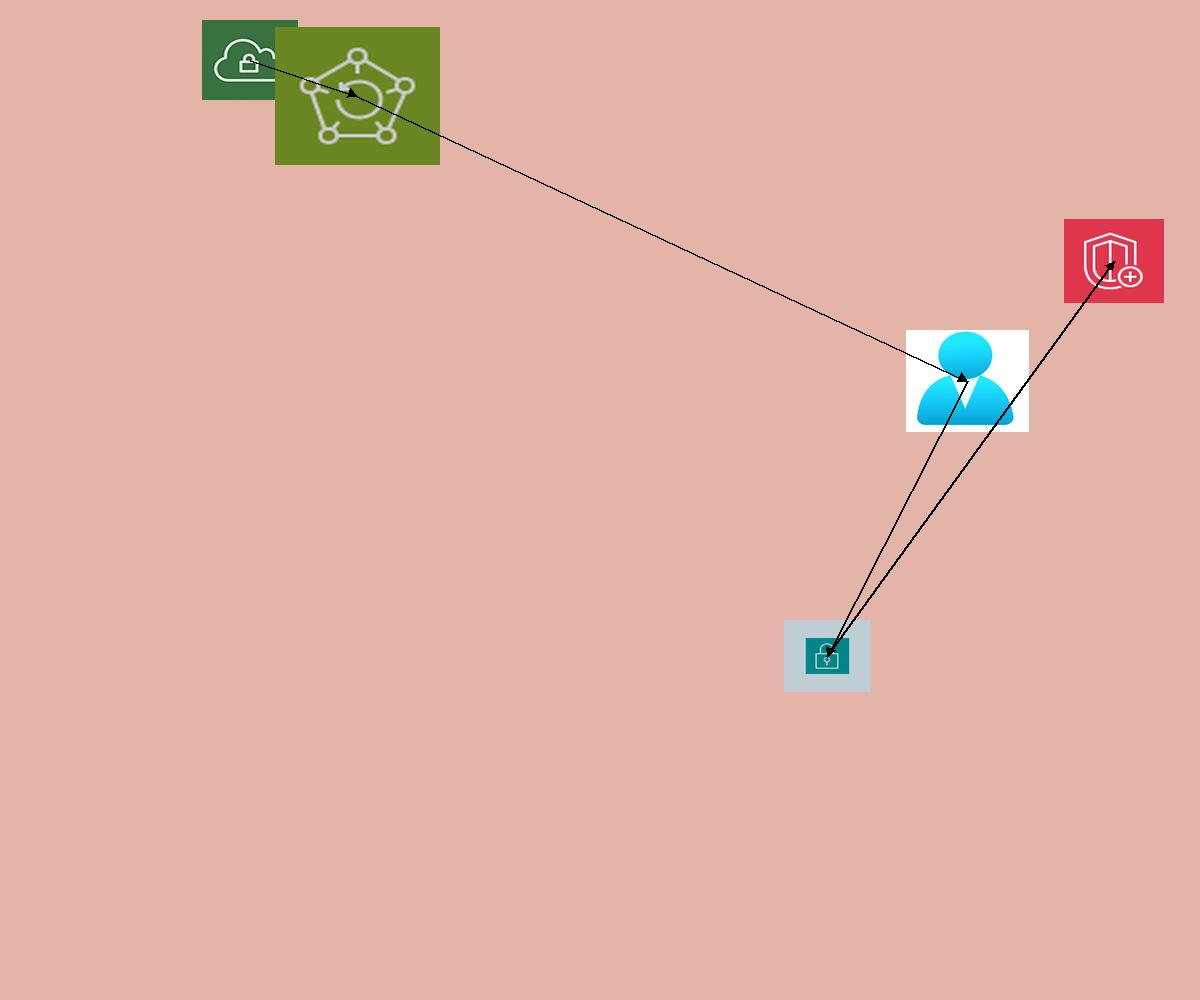AWS-Backup: (275, 27, 440, 165)
AWS-Private-subnet: (784, 620, 871, 692)
AWS-Private_vpc: (202, 20, 298, 100)
AWS-Shield: (1064, 219, 1164, 303)
Azure_users: (906, 330, 1029, 432)
